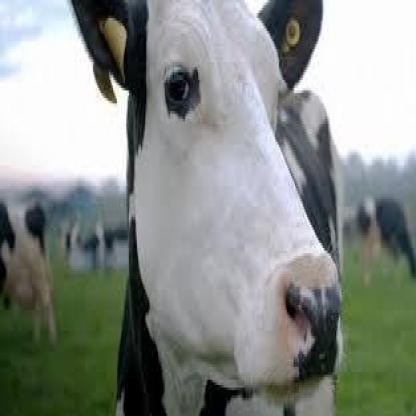cow: (69, 0, 343, 416), (0, 200, 58, 347), (359, 196, 416, 282)
